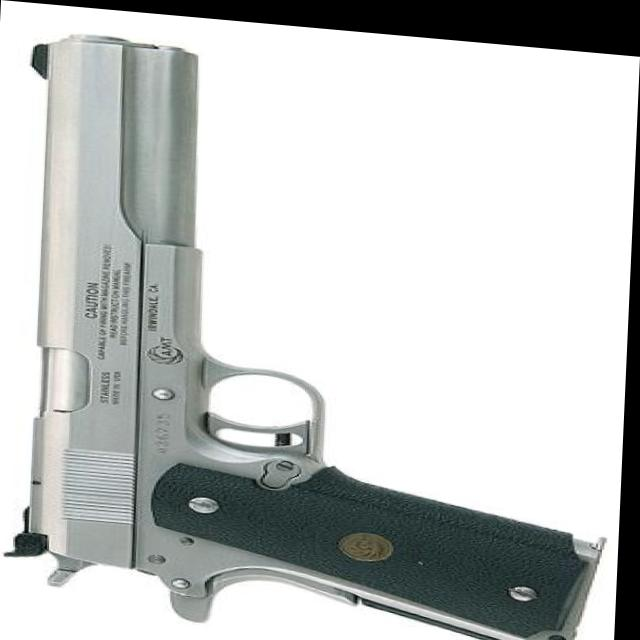handgun: (0, 32, 625, 640)
